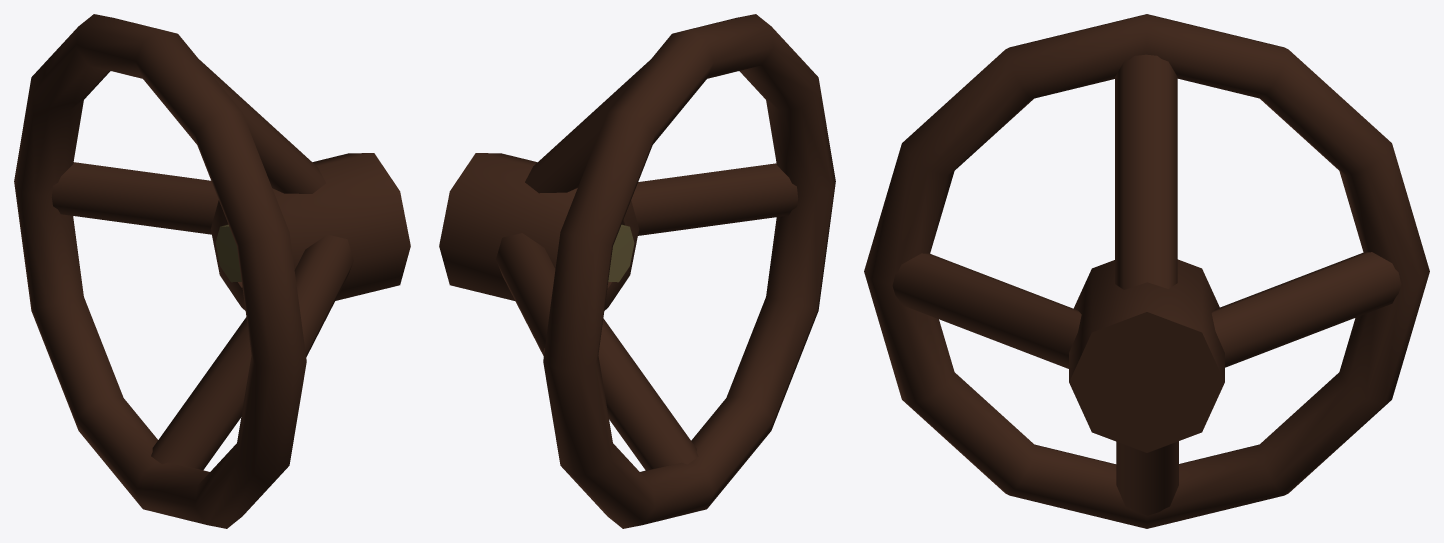
File: SM_ValveS.fbx
3 views of the same model, side by side, from view 1: azimuth 30°, elevation 25°; view 2: azimuth 150°, elevation 25°; view 3: azimuth 270°, elevation 25° (orthographic). The views are drawn at different scales.
Parts seen in each view (by area): view 1: SM_ValveS; view 2: SM_ValveS; view 3: SM_ValveS.
Boxes of the visible parts, bbox=[...] form: SM_ValveS: bbox=[14, 14, 410, 528]; SM_ValveS: bbox=[439, 14, 835, 528]; SM_ValveS: bbox=[864, 14, 1429, 528].
Bounding box in the file's own units: 0.0865 × 0.167 × 0.167.
